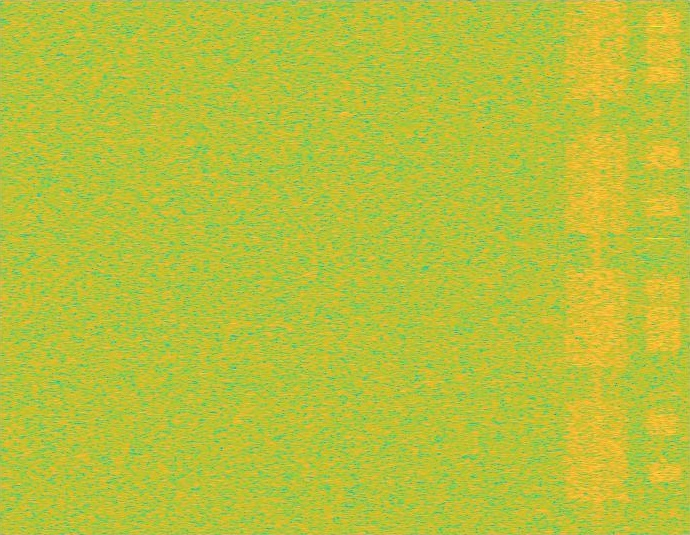5G: (562, 0, 631, 534)
DSSS: (592, 0, 601, 534)
LTE: (646, 0, 680, 534)
Radar: (650, 0, 664, 534)
